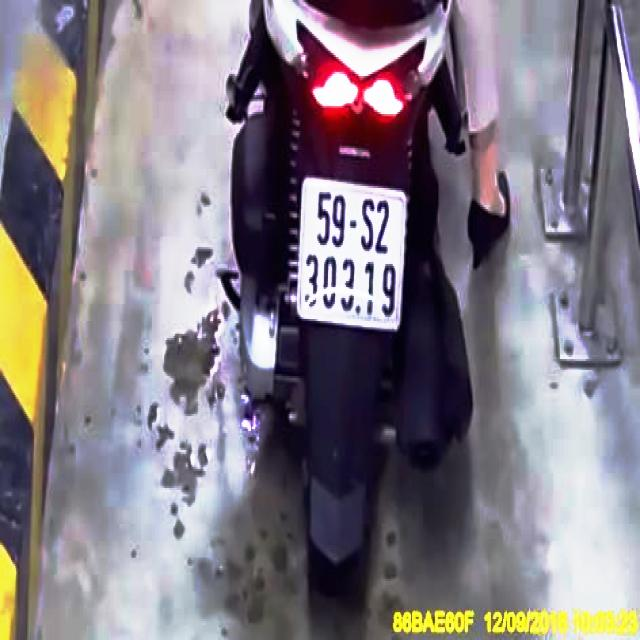license_plate: (298, 179, 409, 329)
